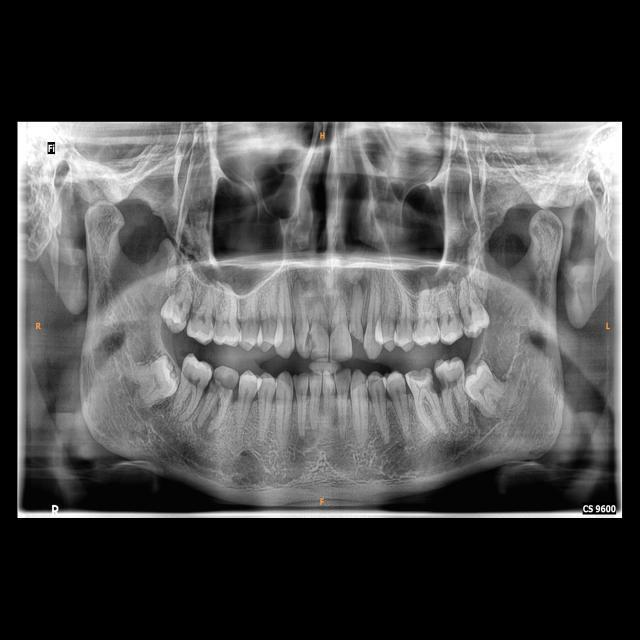dentin-curugu: (208, 369, 237, 398), (434, 367, 466, 391), (303, 331, 322, 358), (421, 378, 439, 401)
